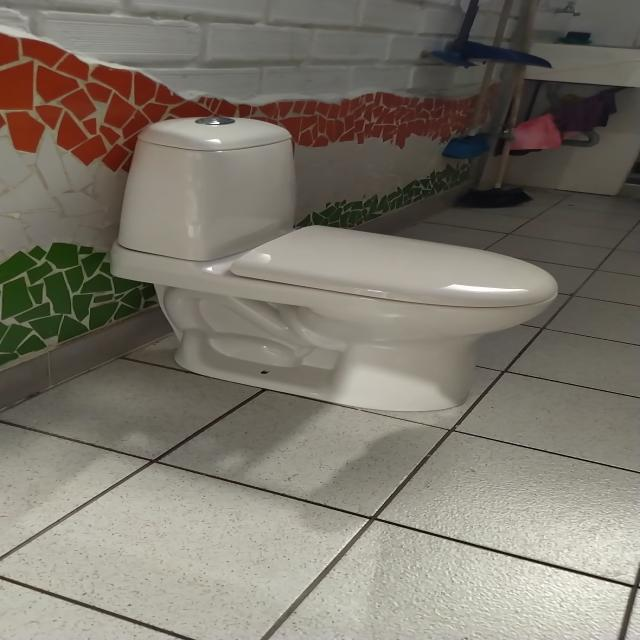toilet: (109, 115, 558, 412)
